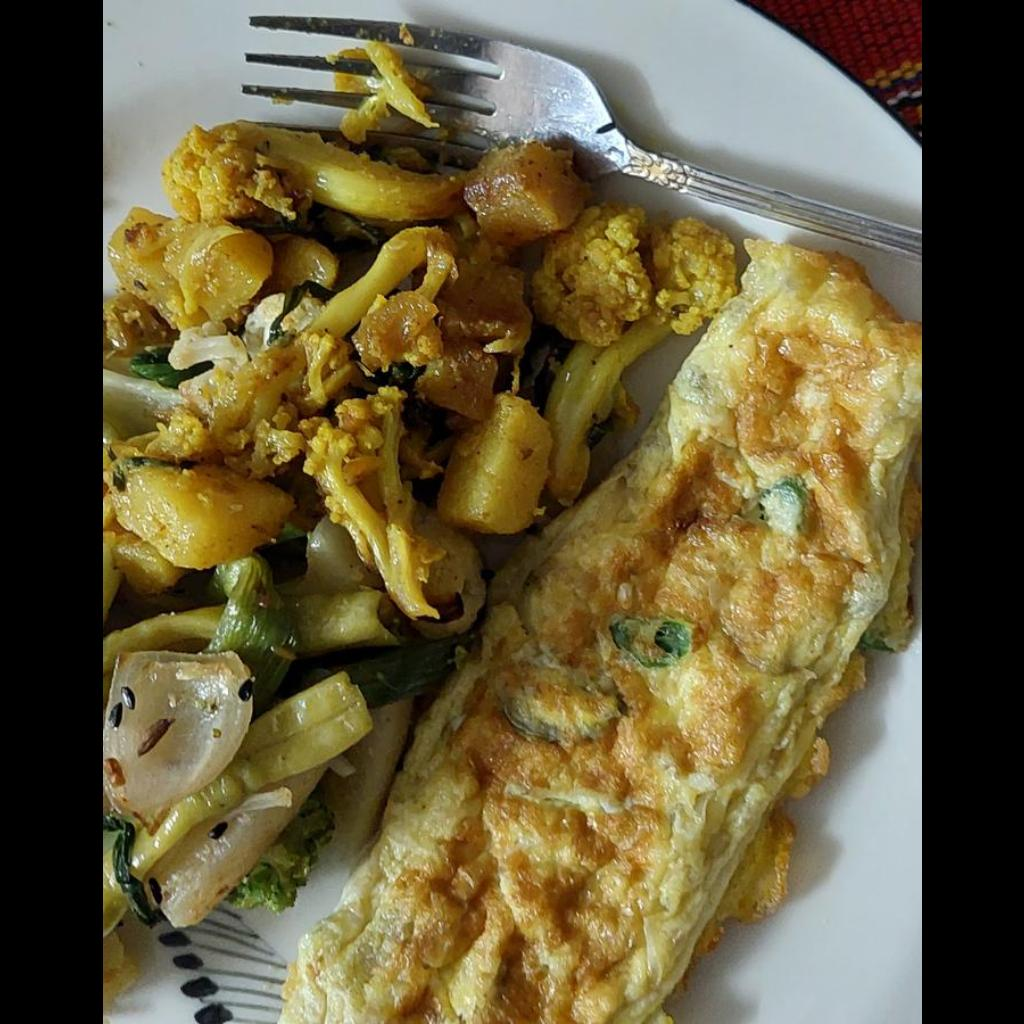egg-poached: (273, 241, 918, 1023)
vegetable: (102, 122, 731, 932)
